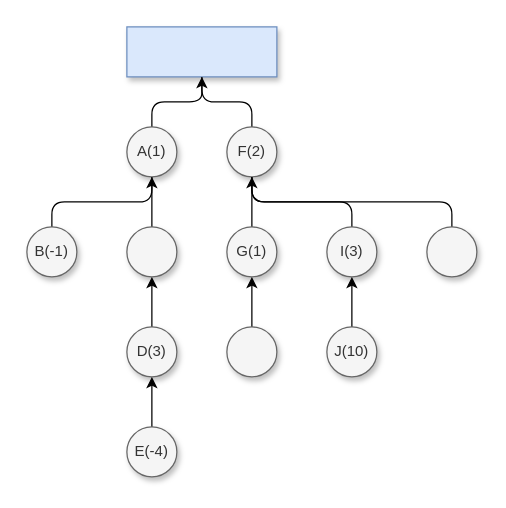
Some shapes in this 506 by 508 pixel diagram are drawn without their labels. The centre of each missing label's shape, as x and y in pixels:
"C(2)" goes at point 152,253.
"H(5)" goes at point 252,353.
"InputContext" goes at point 202,53.
"K(-5)" goes at point 452,253.
